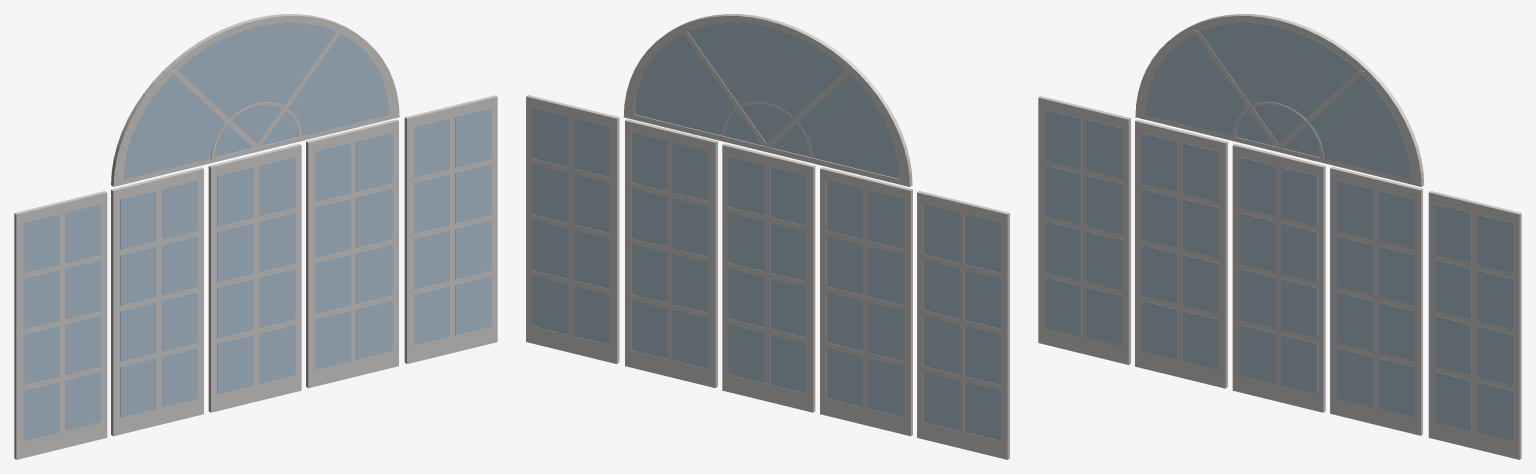
The model's file is windows.glb.
3 renders of one model, left to right at view 1: azimuth 30°, elevation 25°; view 2: azimuth 150°, elevation 25°; view 3: azimuth 330°, elevation 25°, orthographic.
Parts seen in each view (by area): view 1: Mesh_Mesh_head_geo.001_lambert2SG.001; view 2: Mesh_Mesh_head_geo.001_lambert2SG.001; view 3: Mesh_Mesh_head_geo.001_lambert2SG.001.
Part boxes in pixels (<box>): Mesh_Mesh_head_geo.001_lambert2SG.001: <box>14,14,497,459</box>; Mesh_Mesh_head_geo.001_lambert2SG.001: <box>526,14,1009,459</box>; Mesh_Mesh_head_geo.001_lambert2SG.001: <box>1038,14,1521,459</box>.
Size of the model in its own units: 114 by 86.04 by 1.24.
